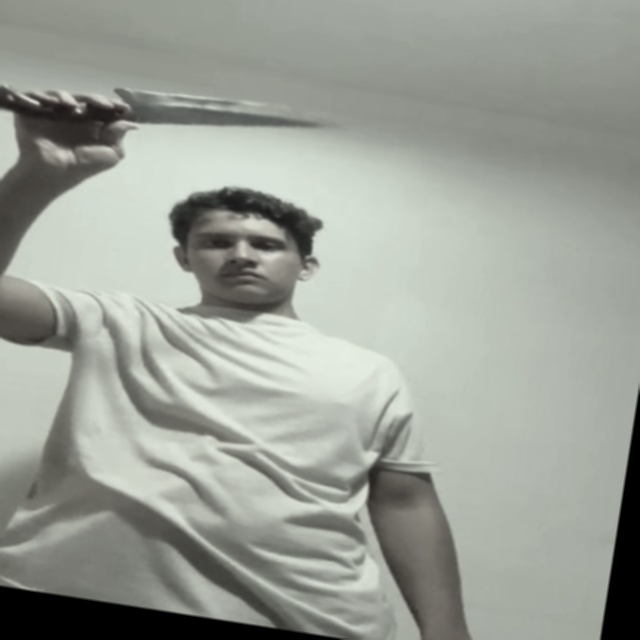Sharp-Object: (119, 81, 350, 153)
